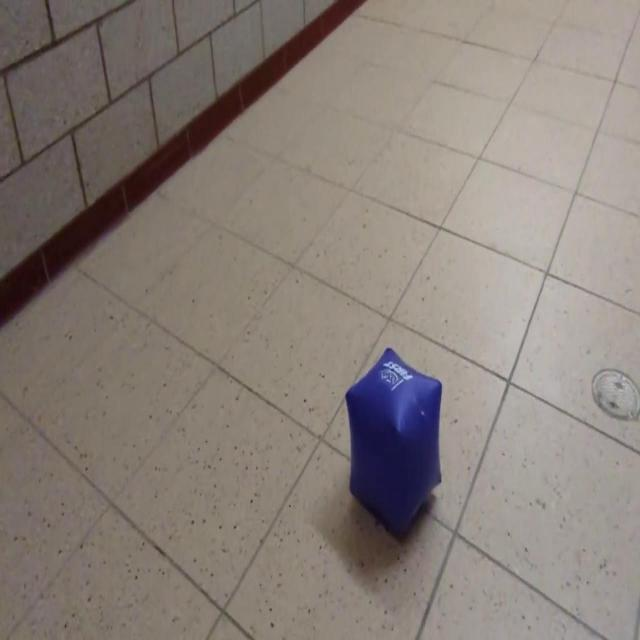frc_cube: (339, 348, 445, 536)
